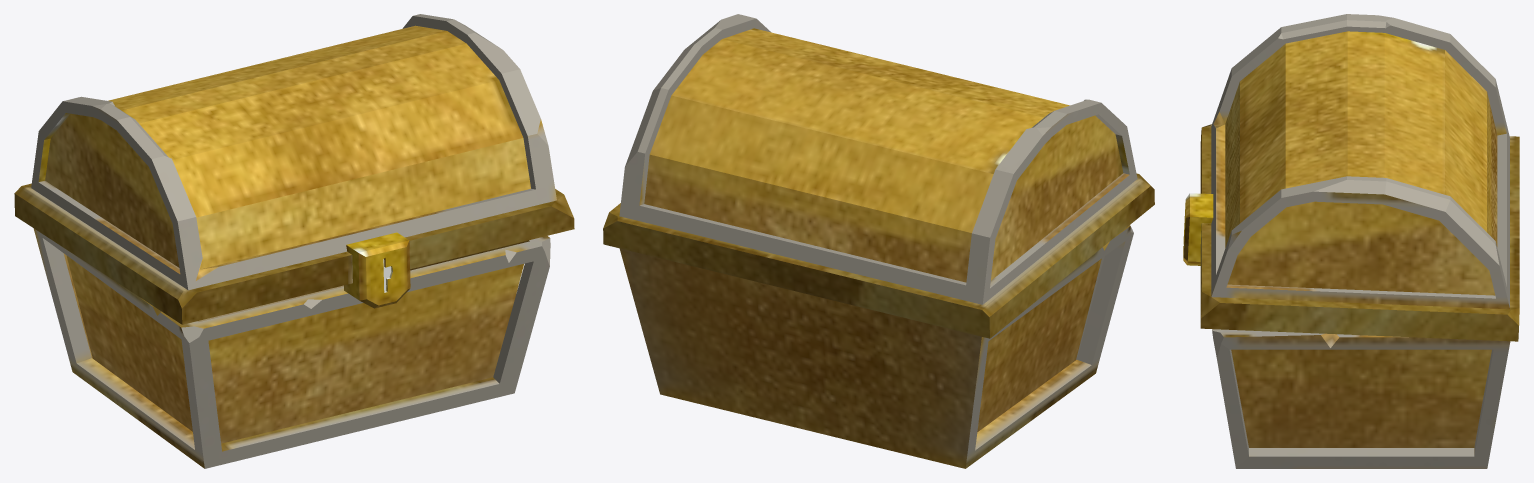
The model's file is treasure.glb.
The picture shows the model from 3 angles, left to right: view 1: azimuth 30°, elevation 25°; view 2: azimuth 150°, elevation 25°; view 3: azimuth 270°, elevation 25°; orthographic projection. The views are drawn at different scales.
Visible parts, largest first — view 1: treasure; view 2: treasure; view 3: treasure.
Part boxes in pixels (box(x1,y1,x2,y2)): treasure: box(14, 14, 574, 468); treasure: box(603, 14, 1154, 468); treasure: box(1183, 14, 1519, 468).
Size of the model in its own units: 0.7887 by 0.602 by 0.6165.
Materials: 1 (1 with a texture image).
